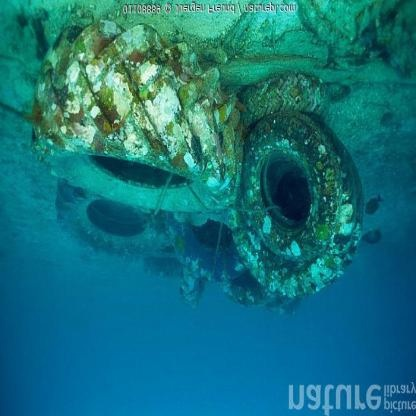tire: (24, 21, 237, 212), (229, 114, 366, 291), (237, 113, 336, 245), (38, 175, 168, 270), (160, 203, 251, 287), (142, 249, 221, 304), (235, 74, 336, 115)
